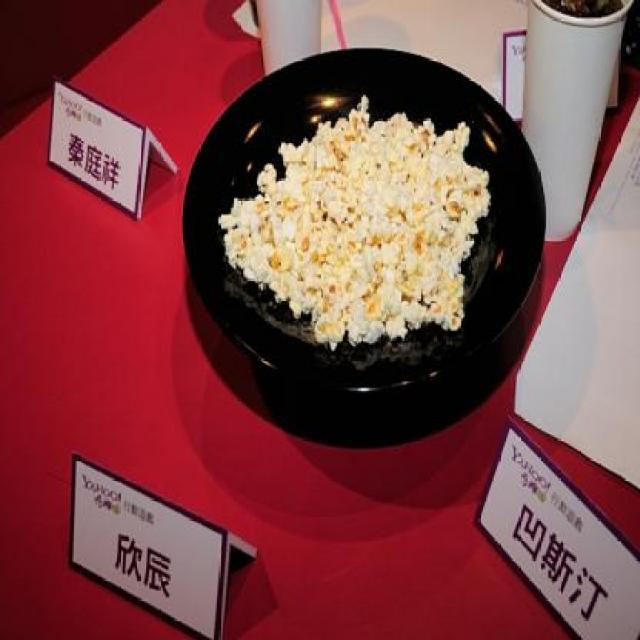Popcorn: (218, 94, 493, 356)
